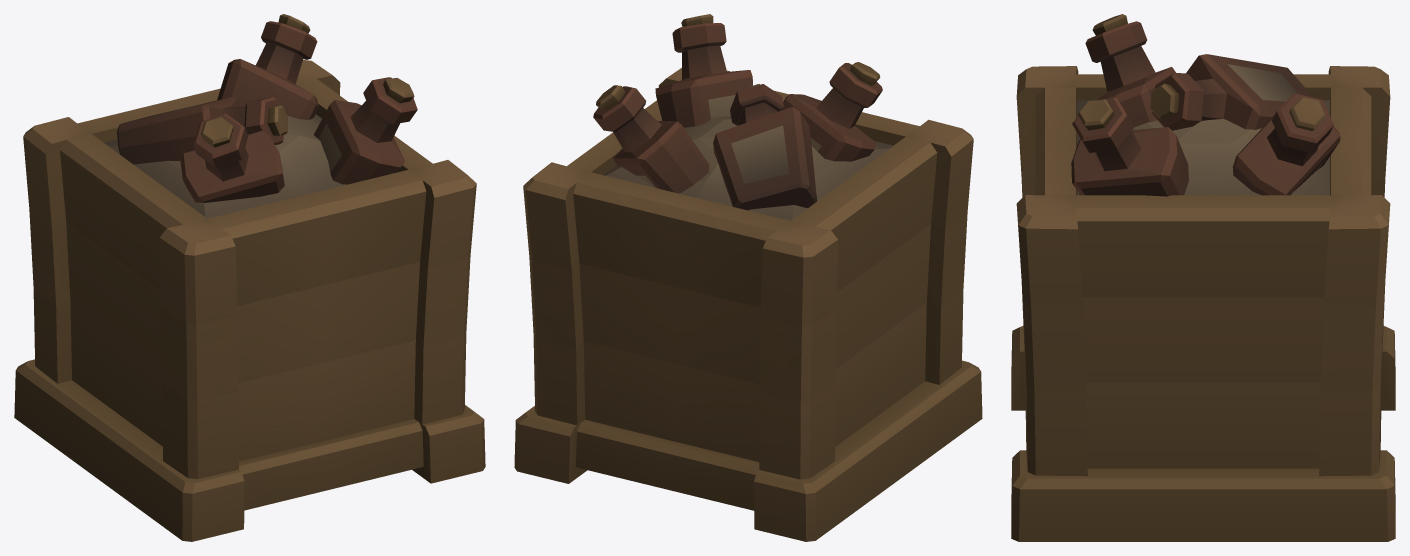
File: SM_EN_Crate_3.fbx
The picture shows the model from 3 angles, left to right: view 1: azimuth 30°, elevation 25°; view 2: azimuth 150°, elevation 25°; view 3: azimuth 270°, elevation 25°; orthographic projection. The views are drawn at different scales.
Parts seen in each view (by area): view 1: SM_EN_Crate_3; view 2: SM_EN_Crate_3; view 3: SM_EN_Crate_3.
Part boxes in pixels (x1=…): SM_EN_Crate_3: x1=14, y1=14, x2=485, y2=541; SM_EN_Crate_3: x1=514, y1=14, x2=982, y2=541; SM_EN_Crate_3: x1=1011, y1=14, x2=1395, y2=541.
Bounding box in the file's own units: 92.76 × 92.76 × 109.
